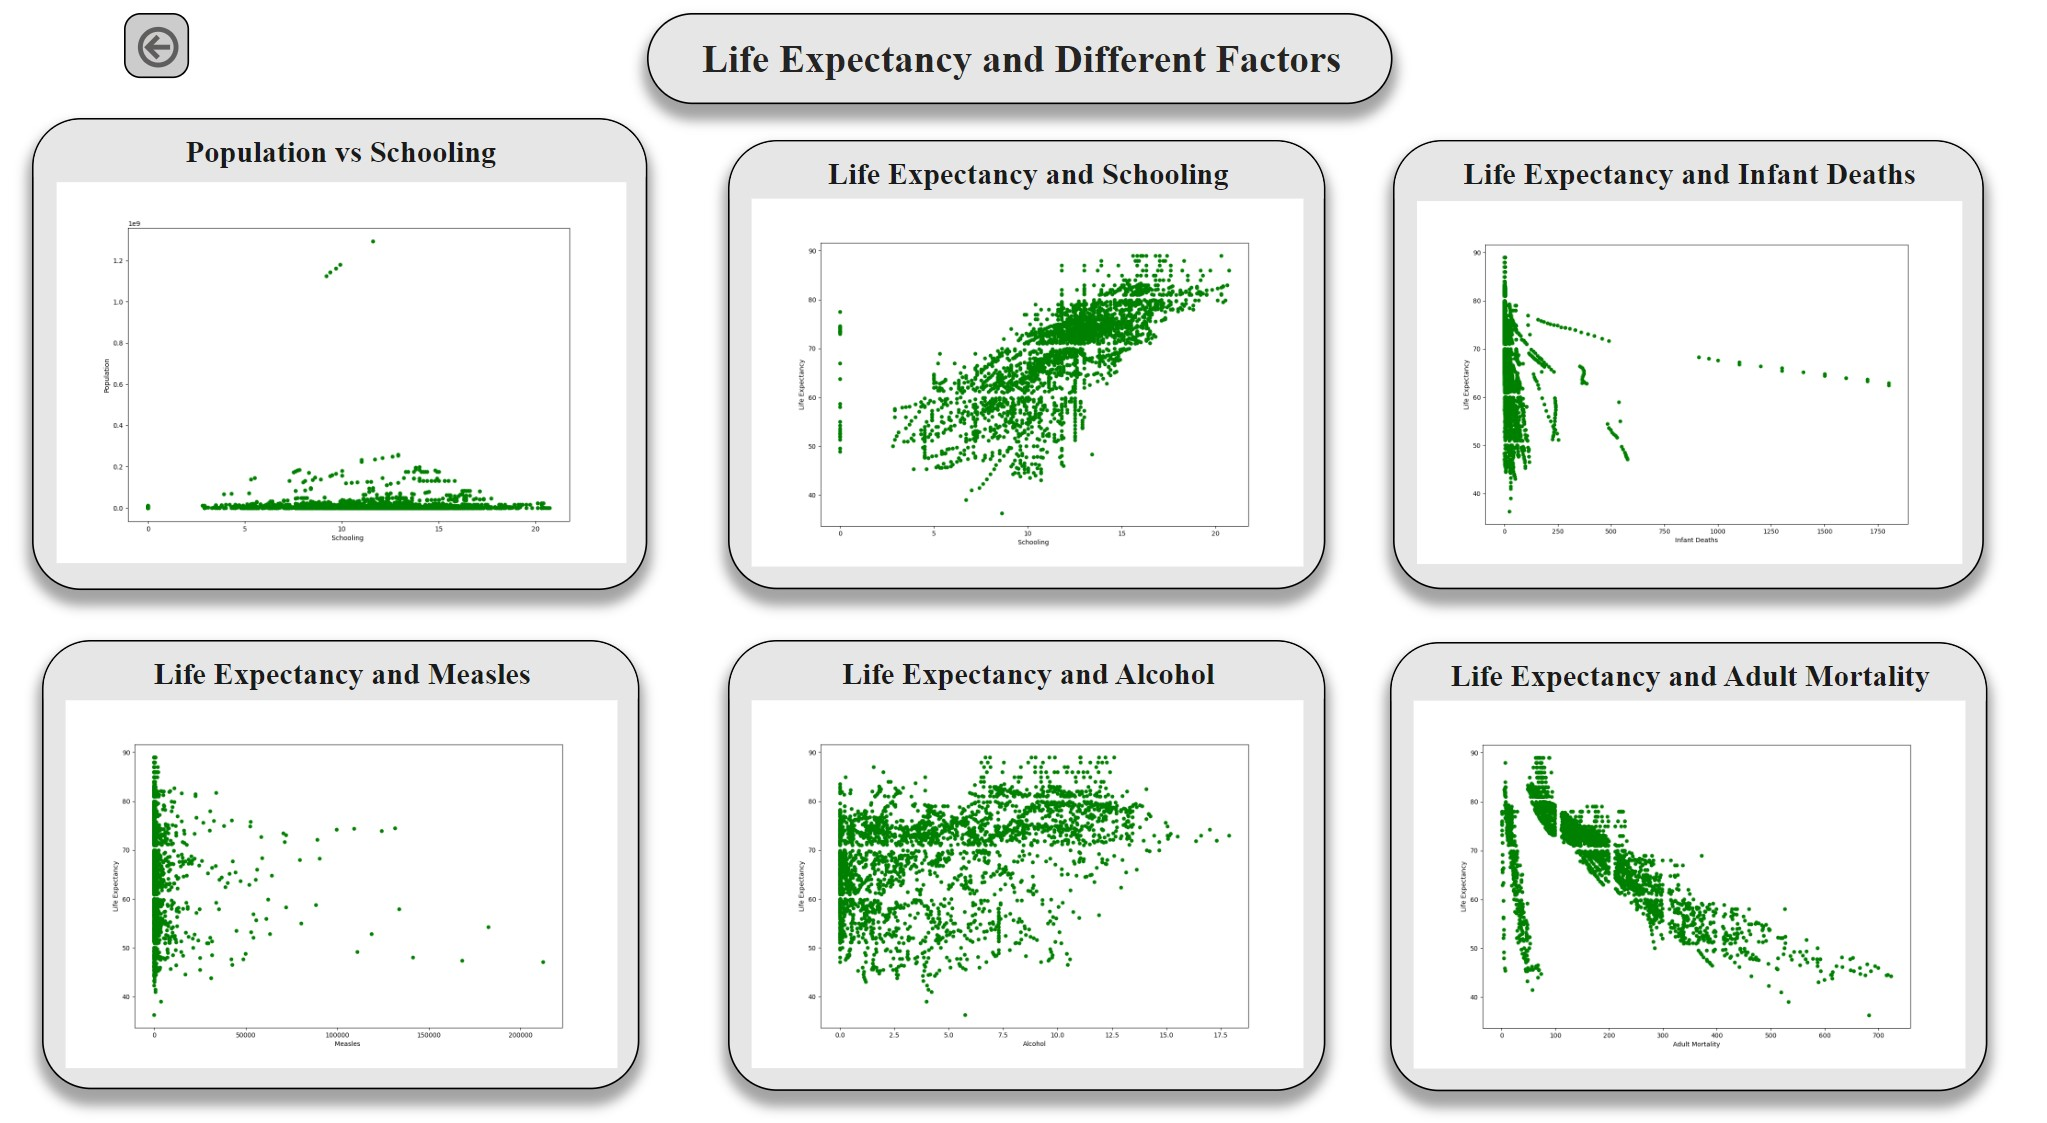

The dashboard page shown, as its layout file describes it:
{"tool":"powerbi","page":{"name":"Scatter Plots","canvas":[1280,720],"ordinal":1},"visuals":[{"type":"pythonVisual","title":"Life Expectancy and Adult Mortality","fields":{"Values":["Sum(LifeExpectancyData.Life expectancy )","LifeExpectancyData.AdultMortality"]},"box":[863.6,398.6,367,275.9],"z":2},{"type":"pythonVisual","title":"Life Expectancy and Alcohol","fields":{"Values":["Sum(LifeExpectancyData.Life expectancy )","LifeExpectancyData.Alcohol"]},"box":[456.8,397.3,367,277.1],"z":3},{"type":"pythonVisual","title":"Life Expectancy and Measles","fields":{"Values":["Sum(LifeExpectancyData.Life expectancy )","Sum(LifeExpectancyData.Measles )"]},"box":[35.4,397.3,367,276.5],"z":4},{"type":"pythonVisual","title":"Life Expectancy and Infant Deaths","fields":{"Values":["Sum(LifeExpectancyData.Life expectancy )","LifeExpectancyData.infantdeaths"]},"box":[865.5,90.5,362.5,275.9],"z":5},{"type":"pythonVisual","title":"Population vs Schooling","fields":{"Values":["LifeExpectancyData.Population","LifeExpectancyData.Schooling"]},"box":[29.7,76.6,377.7,289.8],"z":6},{"type":"pythonVisual","title":"Life Expectancy and Schooling","fields":{"Values":["Sum(LifeExpectancyData.Life expectancy )","LifeExpectancyData.Schooling"]},"box":[456.8,90.5,367,275.9],"z":7},{"type":"textbox","box":[407.3,12.3,458.3,55.9],"z":8},{"type":"actionButton","box":[86,12.3,39.9,39.9],"z":10}]}

Visuals, with their boxes in screenshot pixels (x1, y1, x2, y2), scaled from the page's 1280x720 canvas onto the 2047x1123 screenshot:
"Life Expectancy and Adult Mortality" pythonVisual: 1381,622,1968,1052
"Life Expectancy and Alcohol" pythonVisual: 731,620,1317,1052
"Life Expectancy and Measles" pythonVisual: 57,620,644,1051
"Life Expectancy and Infant Deaths" pythonVisual: 1384,141,1964,571
"Population vs Schooling" pythonVisual: 47,119,652,571
"Life Expectancy and Schooling" pythonVisual: 731,141,1317,571
textbox: 651,19,1384,106
actionButton: 138,19,201,81
